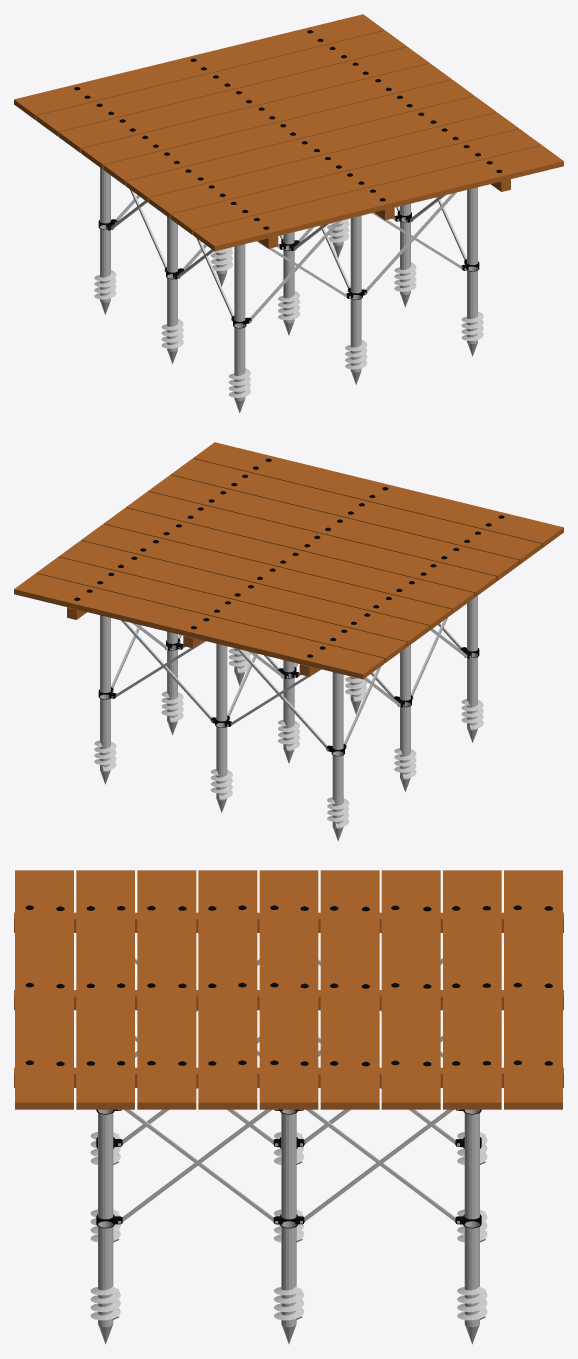
File: lamatwo.obj
3 views of the same model, one above another, from view 1: azimuth 30°, elevation 25°; view 2: azimuth 150°, elevation 25°; view 3: azimuth 270°, elevation 25° (orthographic). The views are drawn at different scales.
Parts seen in each view (by area): view 1: floorboards, screw_pile, crossbar, screws.002, floorstruts; view 2: floorboards, screw_pile, crossbar, screws.002, floorstruts; view 3: floorboards, screw_pile, crossbar, screws.002, floorstruts.
Boxes of the visible parts, x1,y1,x2,y2 form: floorboards: (14,14,563,251); screw_pile: (94,167,483,413); crossbar: (106,189,469,323); screws.002: (74,30,502,229); floorstruts: (258,179,510,248); floorboards: (14,442,563,679); screw_pile: (94,595,483,841); crossbar: (106,617,471,751); screws.002: (74,458,504,657); floorstruts: (67,607,319,676); floorboards: (15,870,562,1109); screw_pile: (90,1109,487,1344); crossbar: (102,958,471,1224); screws.002: (25,905,552,1066); floorstruts: (14,912,563,1087).
Bounding box in the file's own units: 36 × 20.43 × 36.
